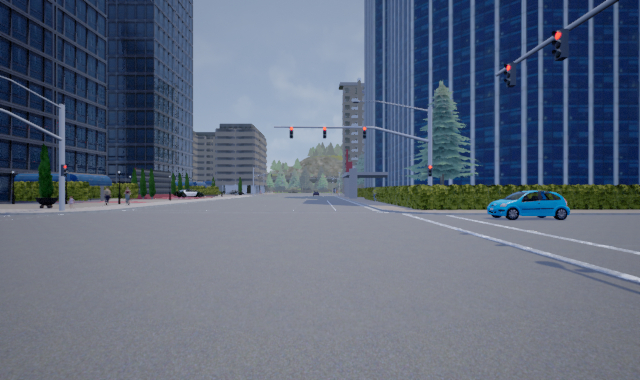pedestrian: (101, 185, 112, 206), (122, 185, 132, 205), (65, 195, 77, 210)
traffic_light: (551, 28, 569, 59), (502, 60, 518, 86), (59, 163, 68, 176), (288, 125, 294, 139), (426, 164, 432, 176), (362, 125, 366, 139), (322, 126, 326, 138)
vehicle: (486, 190, 568, 220), (173, 189, 204, 200)
